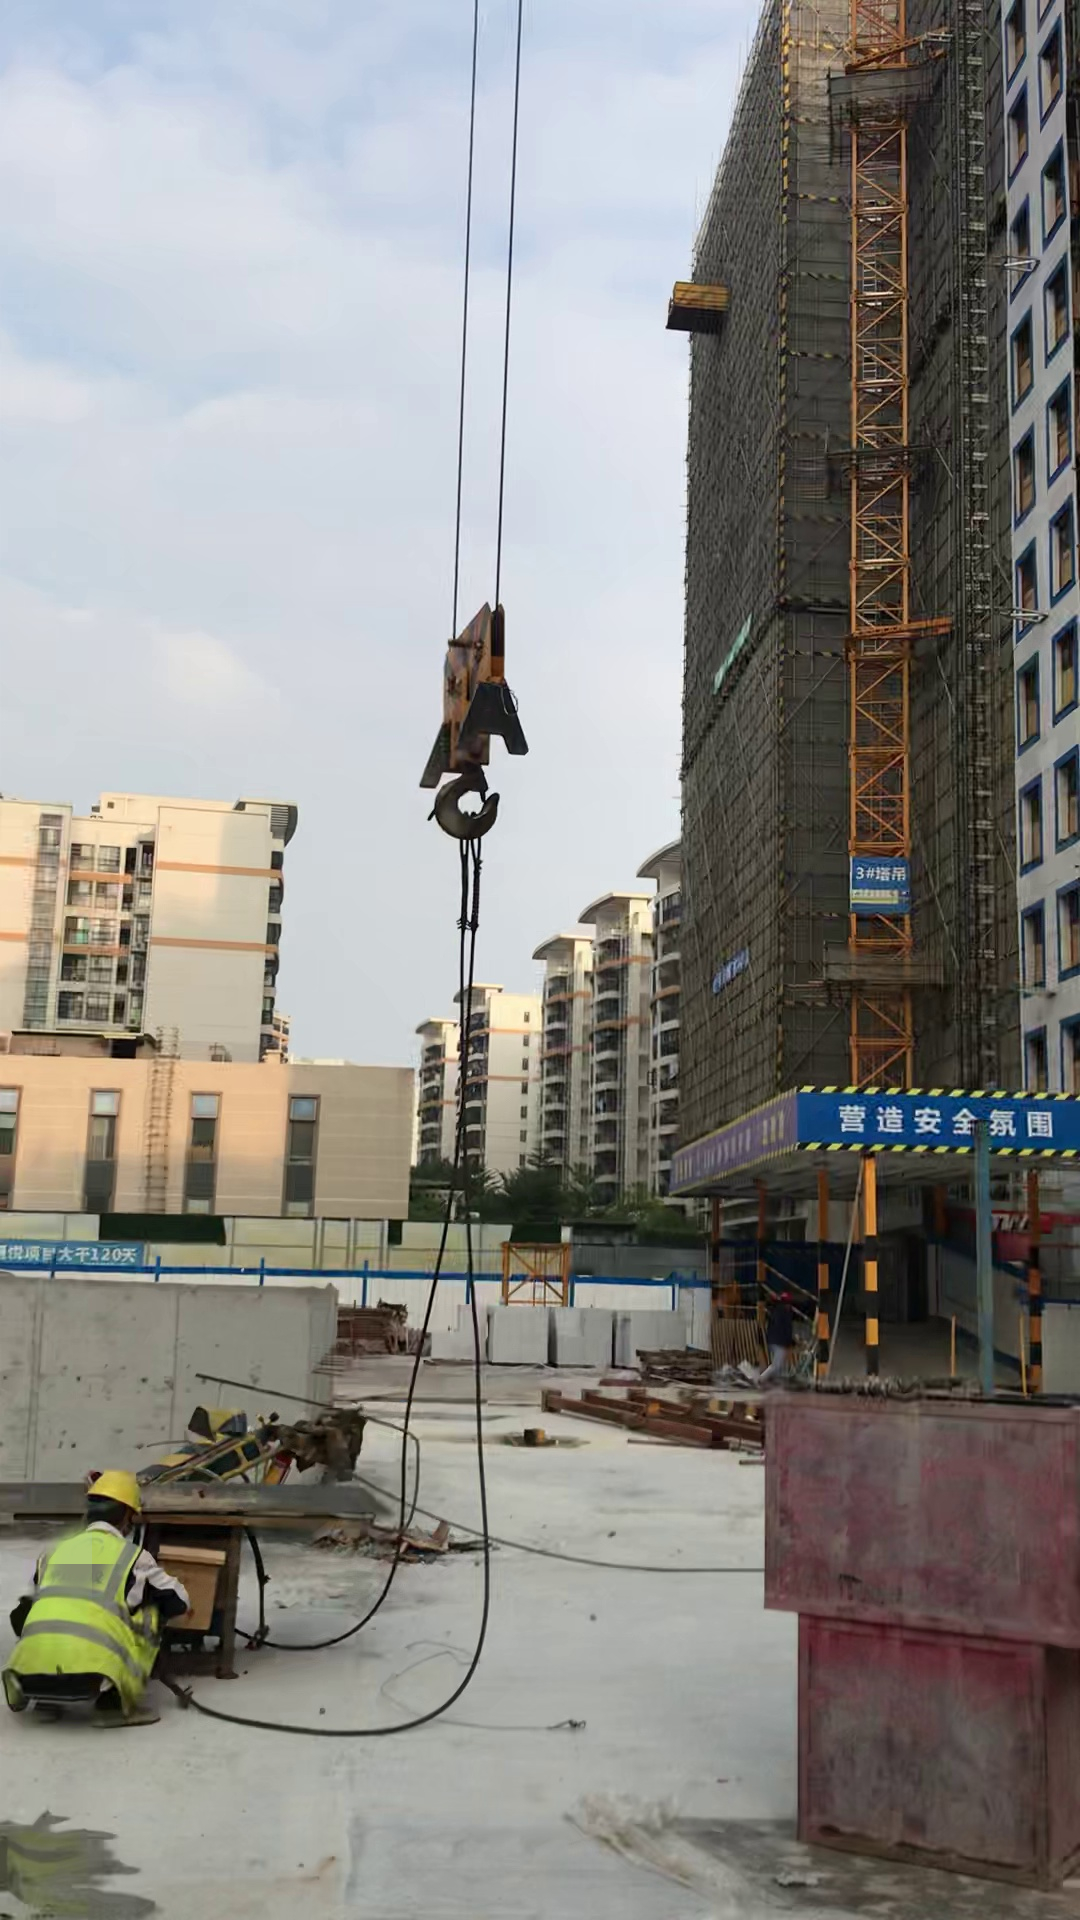brick: (440, 1300, 696, 1368)
cutter: (126, 1405, 378, 1675)
helmet: (85, 1467, 143, 1509)
hook: (427, 586, 522, 866)
person: (16, 1470, 158, 1723), (758, 1284, 800, 1384)
slogan: (839, 1100, 1057, 1151), (1, 1240, 144, 1272), (850, 859, 909, 916)
vest: (27, 1522, 147, 1705)
